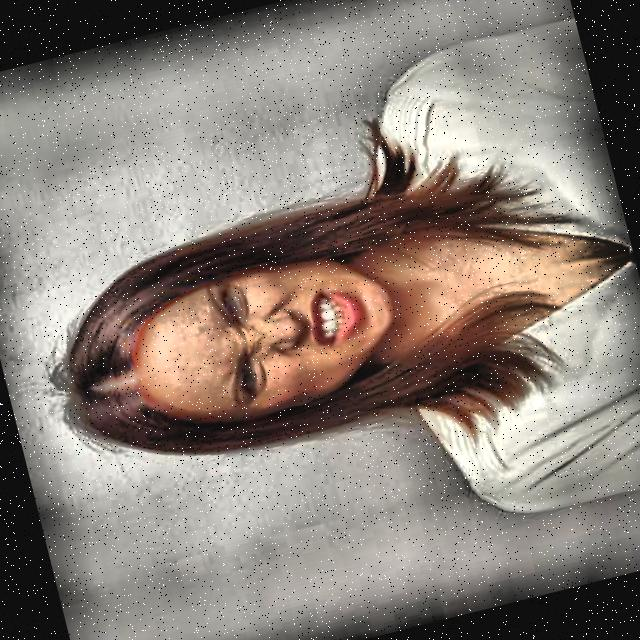angry: (49, 200, 439, 475)
